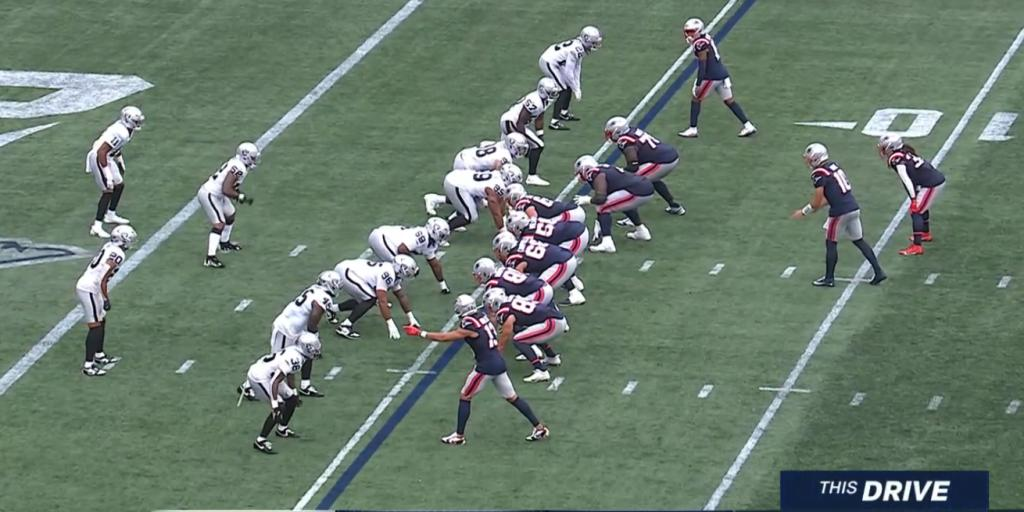player: (406, 294, 548, 443), (792, 144, 886, 287), (76, 225, 136, 376), (246, 332, 320, 453), (879, 134, 945, 253), (605, 117, 685, 214), (574, 155, 654, 252), (86, 106, 145, 235), (197, 142, 258, 266), (334, 256, 418, 339), (539, 26, 602, 119), (500, 78, 559, 176), (271, 270, 340, 351), (445, 164, 521, 228), (492, 232, 574, 286), (485, 289, 567, 343), (473, 258, 553, 303), (370, 218, 448, 261), (510, 212, 588, 254), (510, 184, 585, 221), (691, 33, 732, 99), (453, 135, 525, 170), (299, 362, 322, 396), (424, 194, 439, 214)
